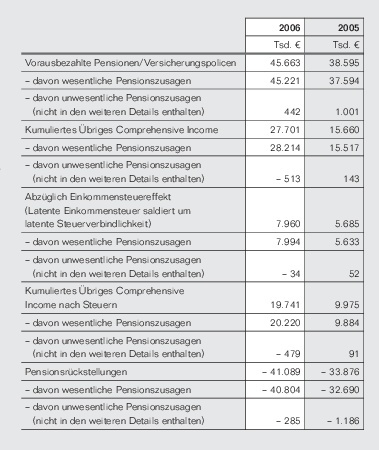table: (0, 0, 379, 450)
